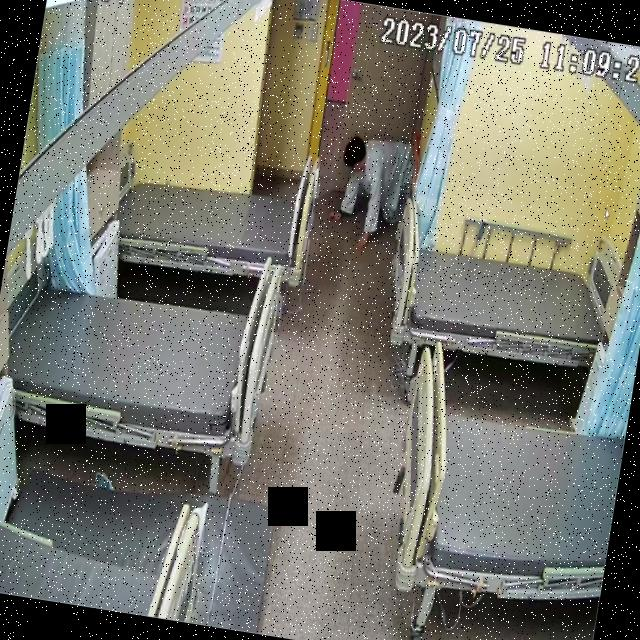bed: (380, 340, 636, 616), (0, 270, 278, 462), (379, 224, 629, 378), (113, 160, 314, 286)
fall: (324, 133, 419, 260)
patient: (324, 132, 420, 258)
